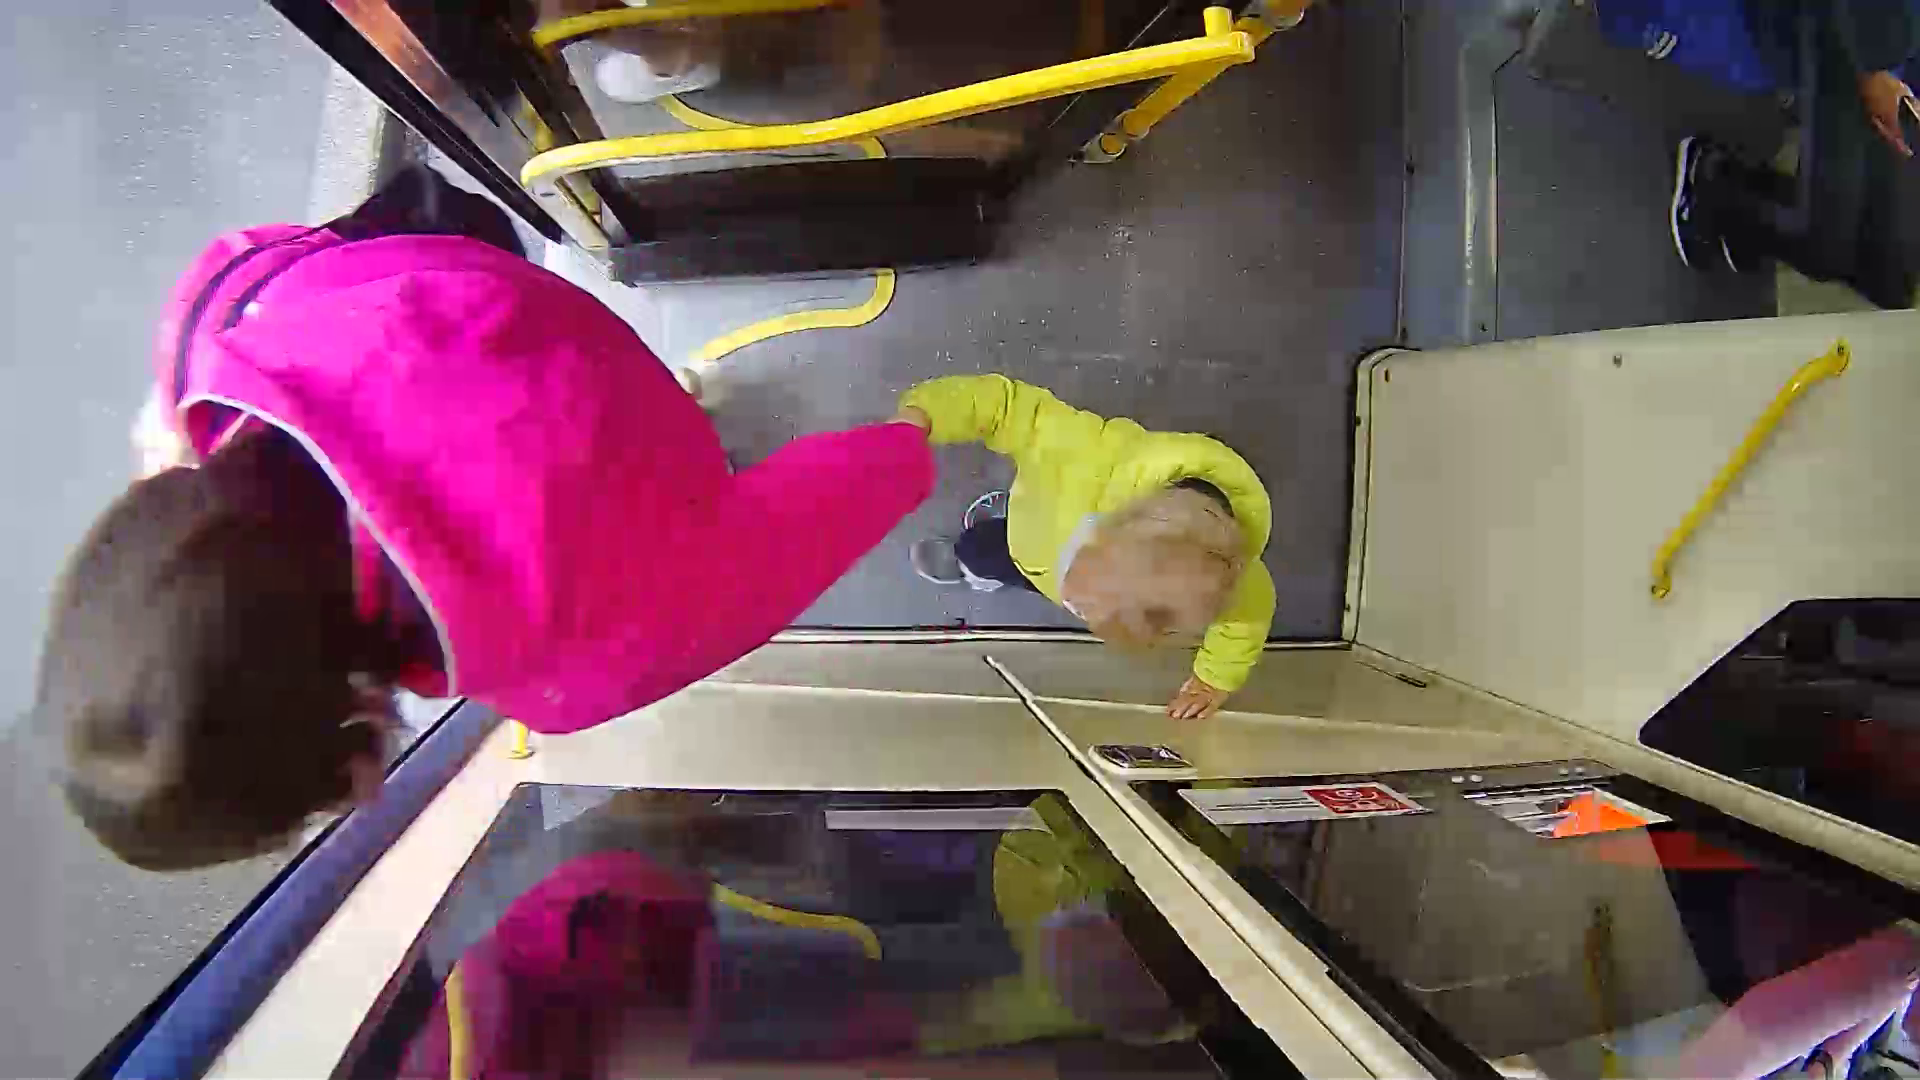person: (32, 201, 846, 827), (934, 368, 1305, 708)
